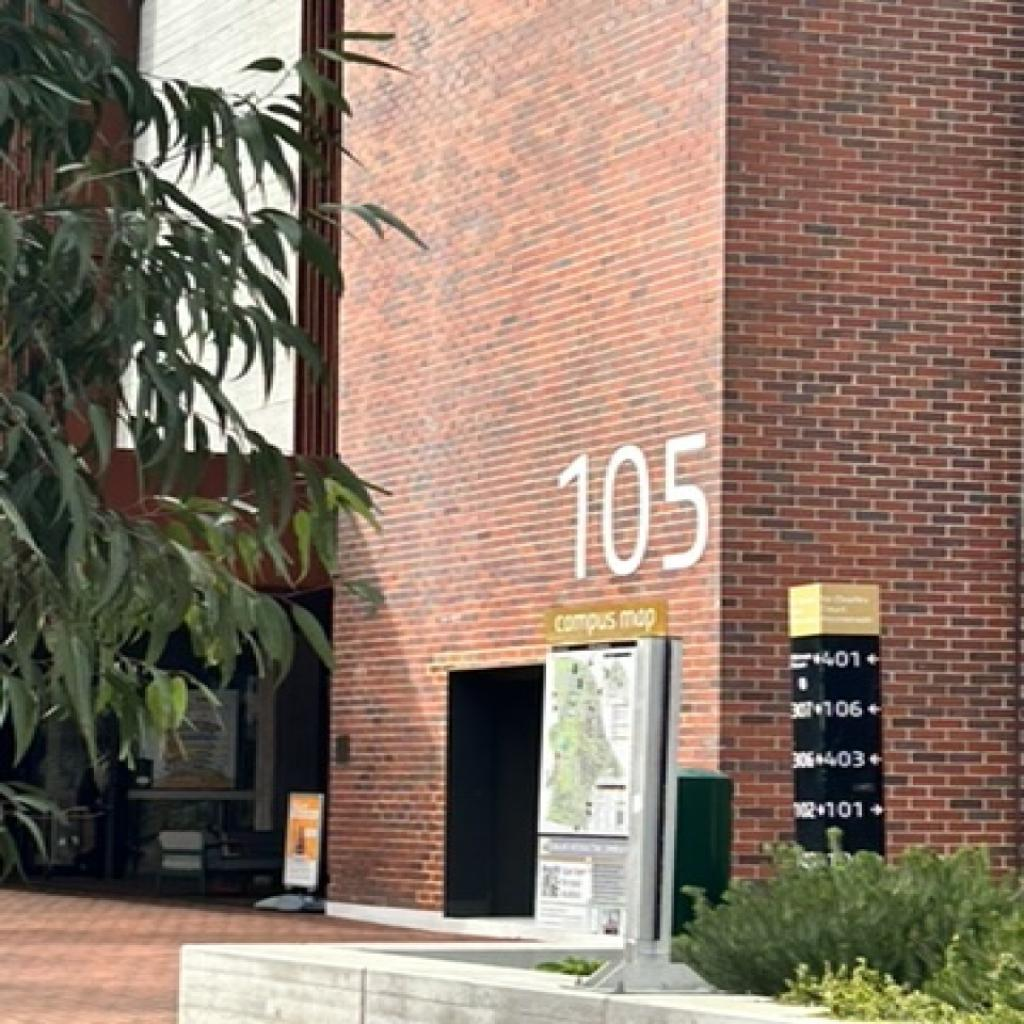BuildingCodes: (556, 428, 712, 582)
